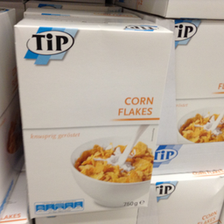cereal: (12, 15, 173, 220)
